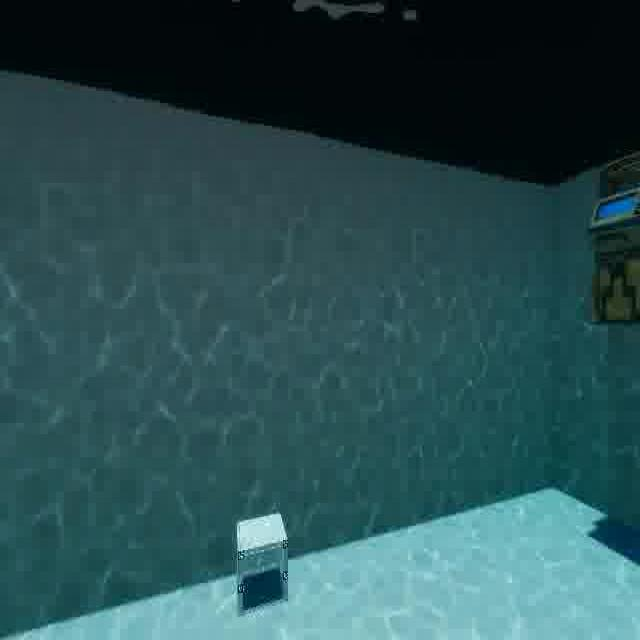Control Panel: (575, 143, 640, 340)
Docking Station: (231, 508, 297, 623)
